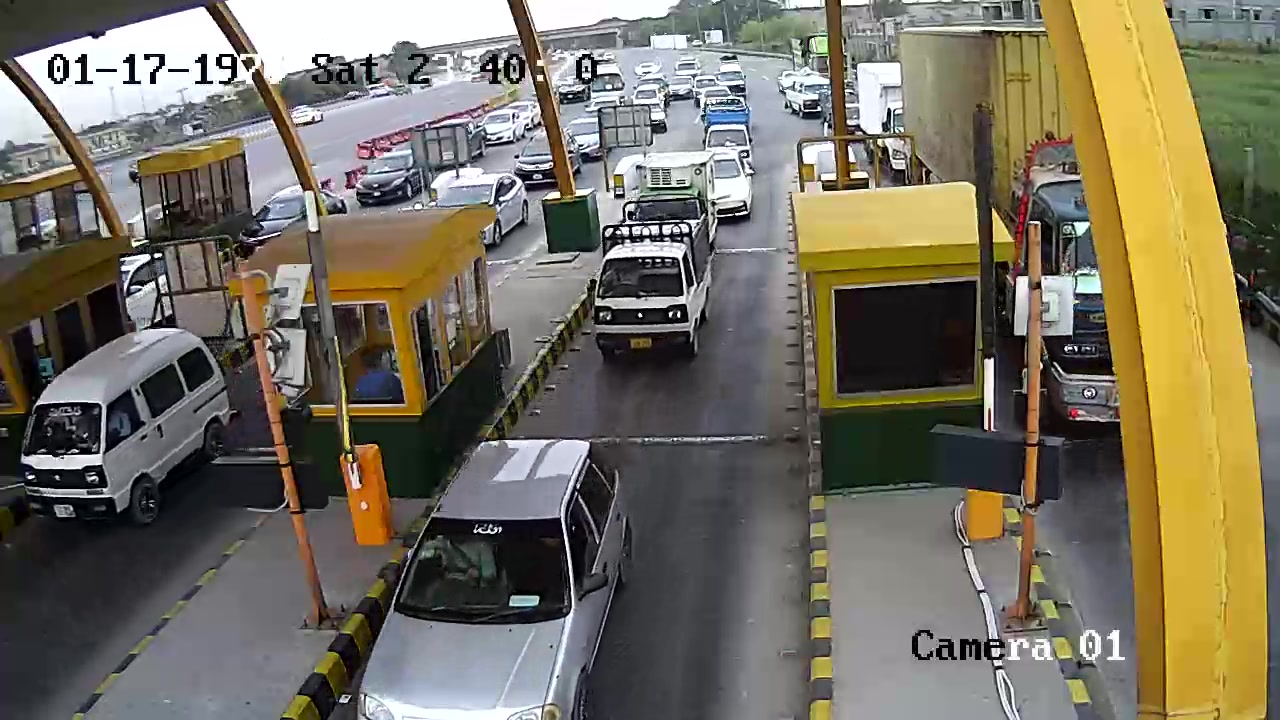F1: (583, 191, 712, 379)
